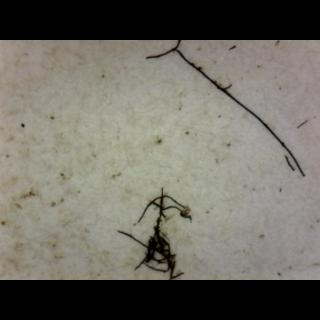Microplastic: (146, 40, 314, 184)
